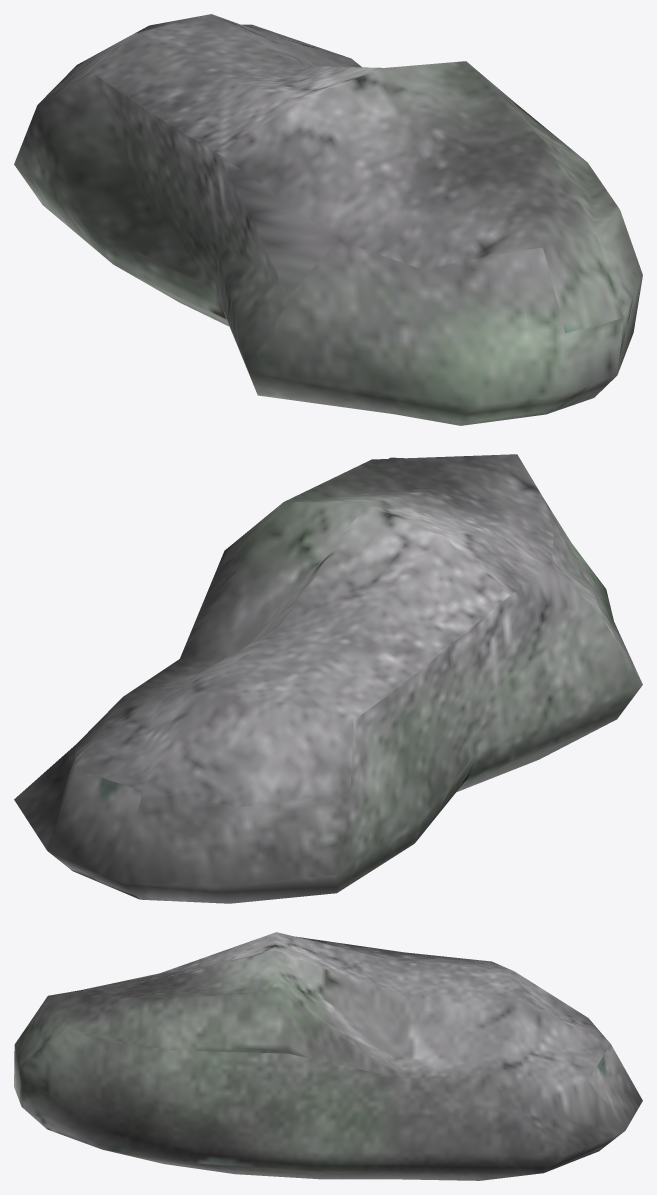
Rendered from Rocks 01.glb.
3 renders of one model, top to bottom at view 1: azimuth 30°, elevation 25°; view 2: azimuth 150°, elevation 25°; view 3: azimuth 270°, elevation 25°, orthographic. The views are drawn at different scales.
Visible parts, largest first — view 1: Rock 01; view 2: Rock 01; view 3: Rock 01.
Boxes of the visible parts, x1,y1,x2,y2 form: Rock 01: (14,14,642,425); Rock 01: (14,454,642,903); Rock 01: (14,932,642,1180).
Size of what is drawn, in the model's own units: 1.46 by 1.01 by 2.91.
Materials: 1 (1 with a texture image).
